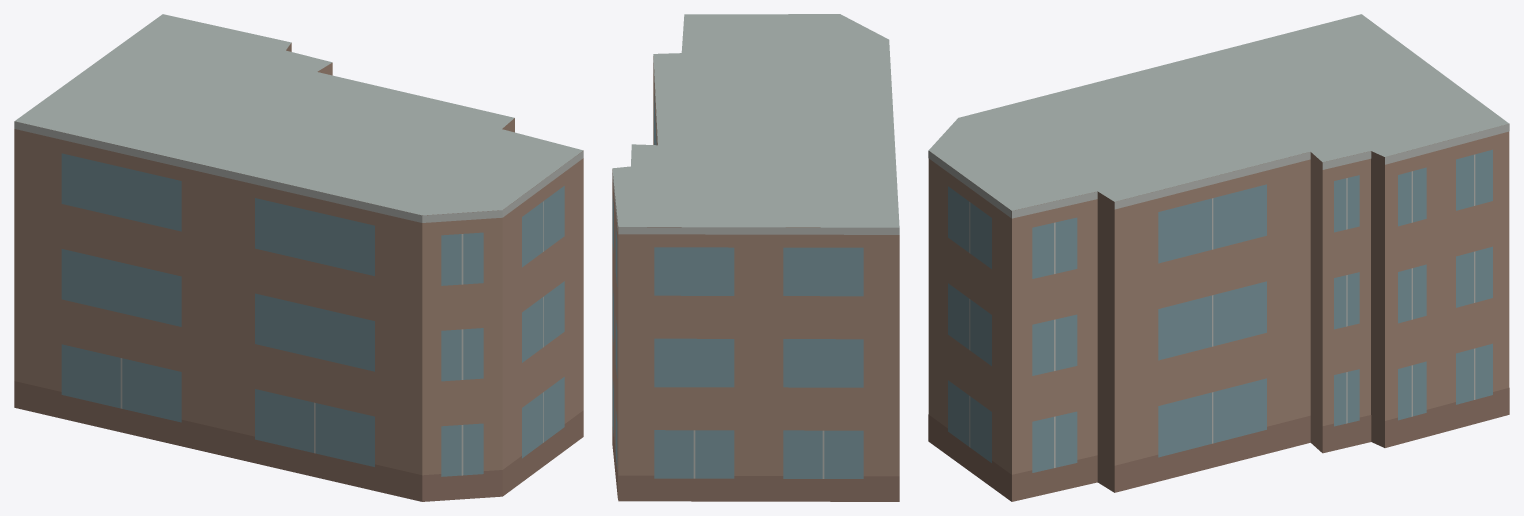
File: survey-upis-32628228.glb
3 views of the same model, side by side, from view 1: azimuth 30°, elevation 25°; view 2: azimuth 150°, elevation 25°; view 3: azimuth 270°, elevation 25° (orthographic). The views are drawn at different scales.
Visible parts, largest first — view 1: survey-upis-32628228.tmp; view 2: survey-upis-32628228.tmp; view 3: survey-upis-32628228.tmp.
Part boxes in pixels (x1,y1,x2,y2): survey-upis-32628228.tmp: [14, 14, 583, 501]; survey-upis-32628228.tmp: [612, 14, 899, 501]; survey-upis-32628228.tmp: [928, 14, 1509, 501].
Bounding box in the file's own units: 13.28 × 9.15 × 16.56.
